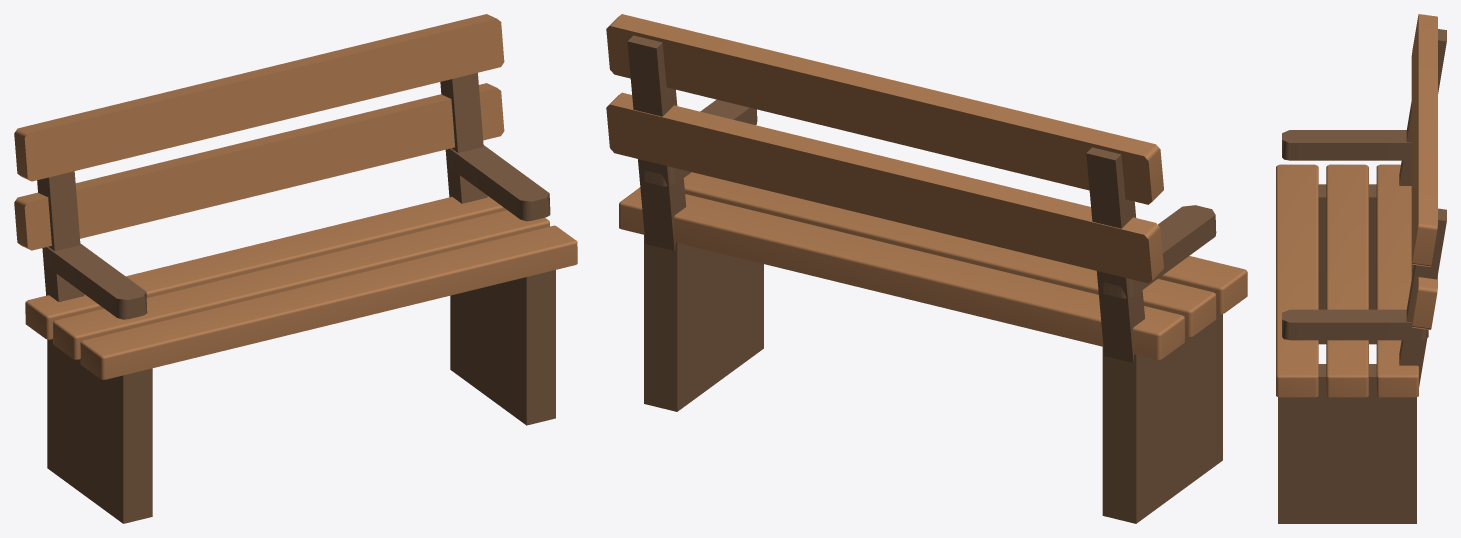
Rendered from bench.glb.
3 views of the same model, side by side, from view 1: azimuth 30°, elevation 25°; view 2: azimuth 150°, elevation 25°; view 3: azimuth 270°, elevation 25° (orthographic). The views are drawn at different scales.
Parts seen in each view (by area): view 1: slat.005, slat.004, slat.001, leg.001, leg.002, slat.002, slat.003, arm.001, arm.002, post.001, post.002; view 2: slat.004, slat.005, slat.003, leg.001, leg.002, slat.002, post.002, post.001, arm.001, slat.001, arm.002; view 3: leg.002, slat.001, slat.002, slat.003, slat.005, arm.002, arm.001, leg.001, post.002, slat.004, post.001.
Boxes of the visible parts, x1,y1,x2,y2 form: slat.005: (14, 14, 504, 181); slat.004: (14, 83, 504, 250); slat.001: (80, 225, 577, 379); leg.001: (47, 339, 152, 523); leg.002: (450, 270, 555, 425); slat.002: (53, 210, 549, 359); slat.003: (25, 196, 506, 339); arm.001: (44, 243, 147, 319); arm.002: (447, 145, 550, 221); post.001: (37, 171, 84, 301); post.002: (440, 73, 487, 203); slat.004: (606, 92, 1163, 283); slat.005: (606, 14, 1163, 204); slat.003: (619, 187, 1184, 359); leg.001: (1102, 313, 1222, 523); leg.002: (644, 235, 763, 411); slat.002: (683, 172, 1216, 336); post.002: (627, 35, 686, 250); post.001: (1086, 147, 1144, 362); arm.001: (1101, 205, 1216, 298); slat.001: (1158, 256, 1247, 314); arm.002: (642, 99, 757, 186); leg.002: (1278, 364, 1416, 523); slat.001: (1276, 164, 1318, 397); slat.002: (1326, 164, 1368, 397); slat.003: (1376, 164, 1418, 397); slat.005: (1411, 14, 1437, 266); arm.002: (1282, 309, 1428, 340); arm.001: (1282, 130, 1411, 160); leg.001: (1318, 184, 1376, 344); post.002: (1399, 208, 1446, 386); slat.004: (1411, 264, 1437, 329); post.001: (1399, 29, 1446, 185).
Size of the model in its own units: 1.3 by 0.8831 by 0.4421.
